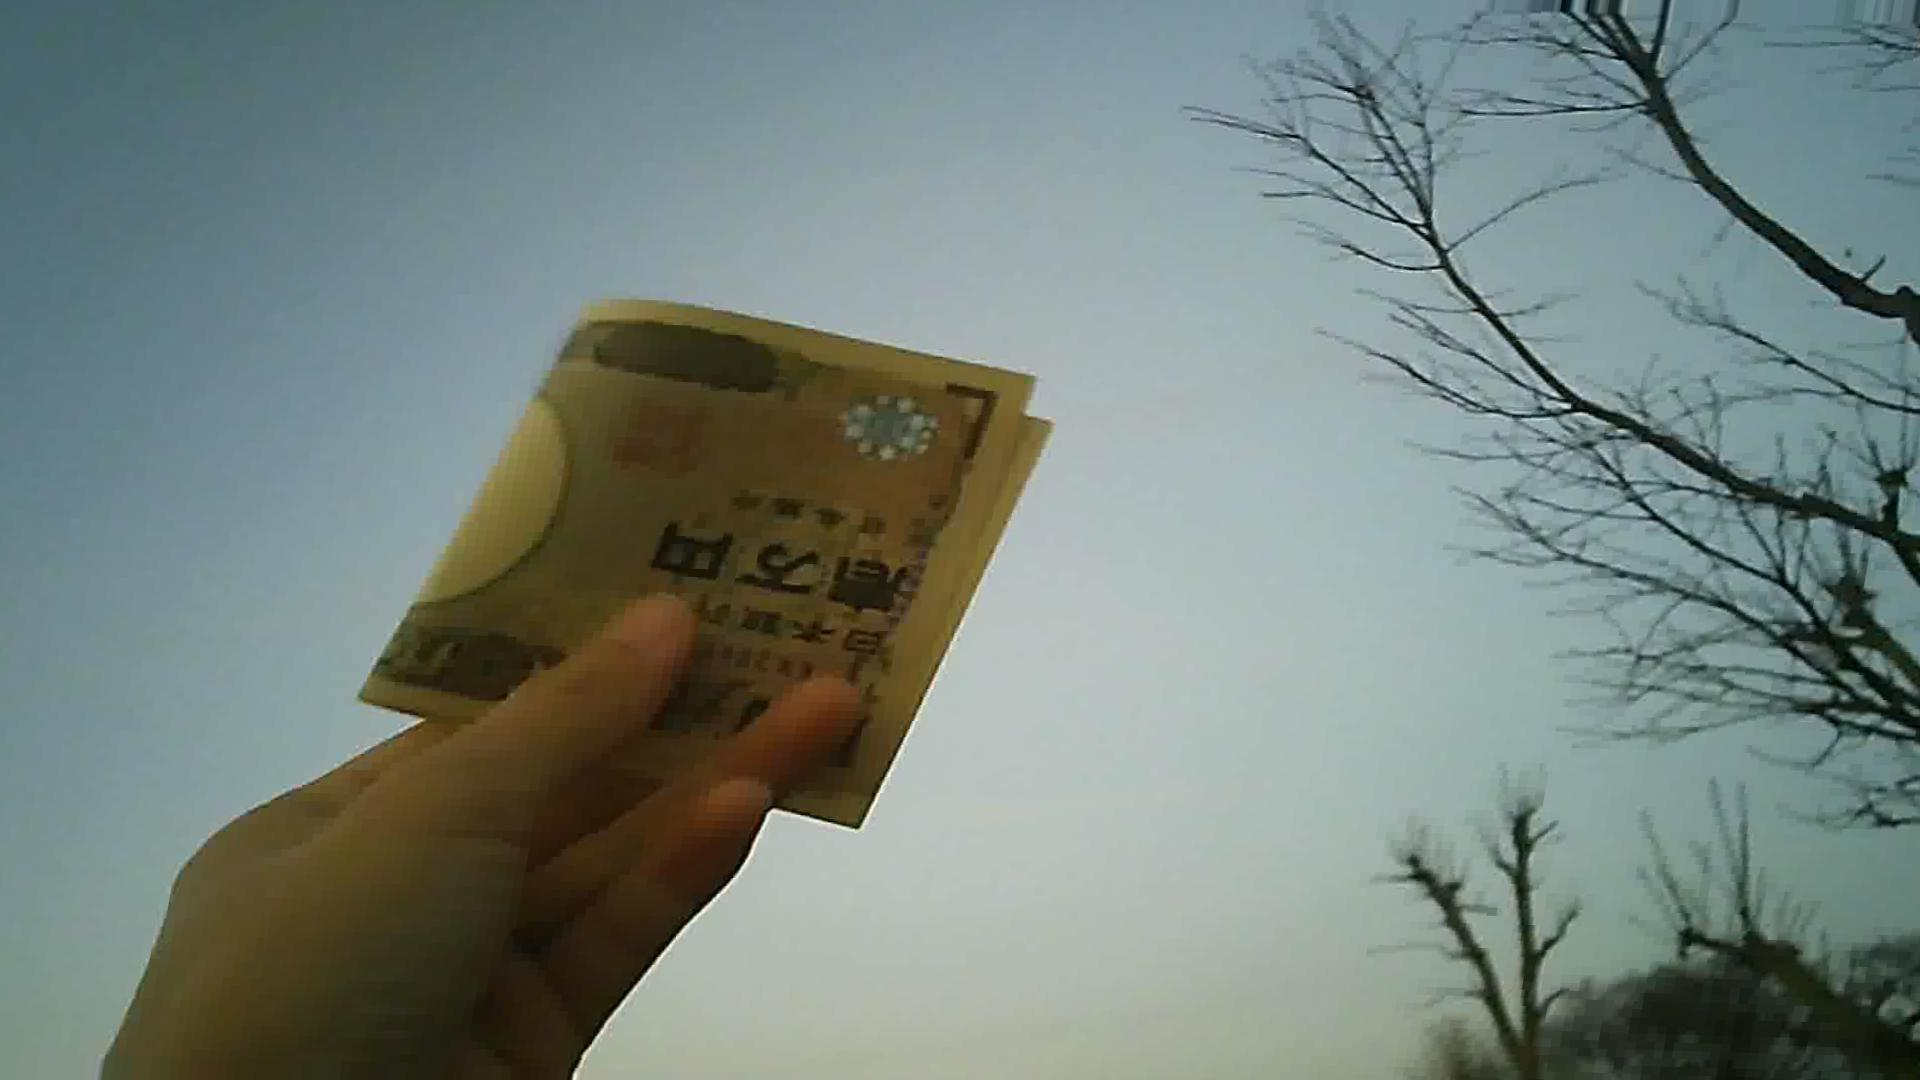10,000 Yen: (345, 260, 1056, 839)
